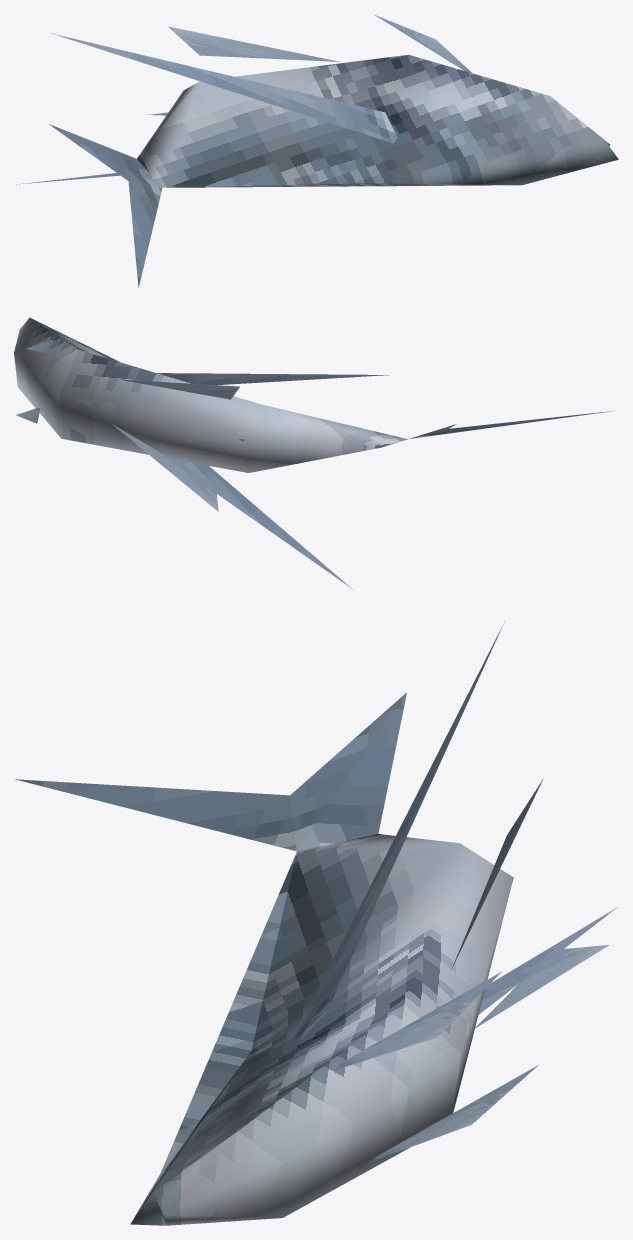
The model's file is edb_food_fish_lg_s1_l2.fbx.
3 views of the same model, one above another, from view 1: azimuth 30°, elevation 25°; view 2: azimuth 150°, elevation 25°; view 3: azimuth 270°, elevation 25° (orthographic). The views are drawn at different scales.
Parts seen in each view (by area): view 1: mesh_node; view 2: mesh_node; view 3: mesh_node.
Boxes of the visible parts, <box> form: mesh_node: <box>16,14,618,287</box>; mesh_node: <box>14,317,615,588</box>; mesh_node: <box>15,622,617,1225</box>.
Size of the model in its own units: 0.5313 by 0.1738 by 0.3319.
Materials: 1 (1 with a texture image).
